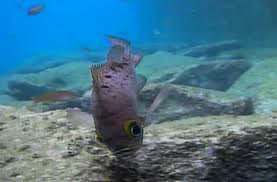mebaru: (82, 30, 159, 163)
